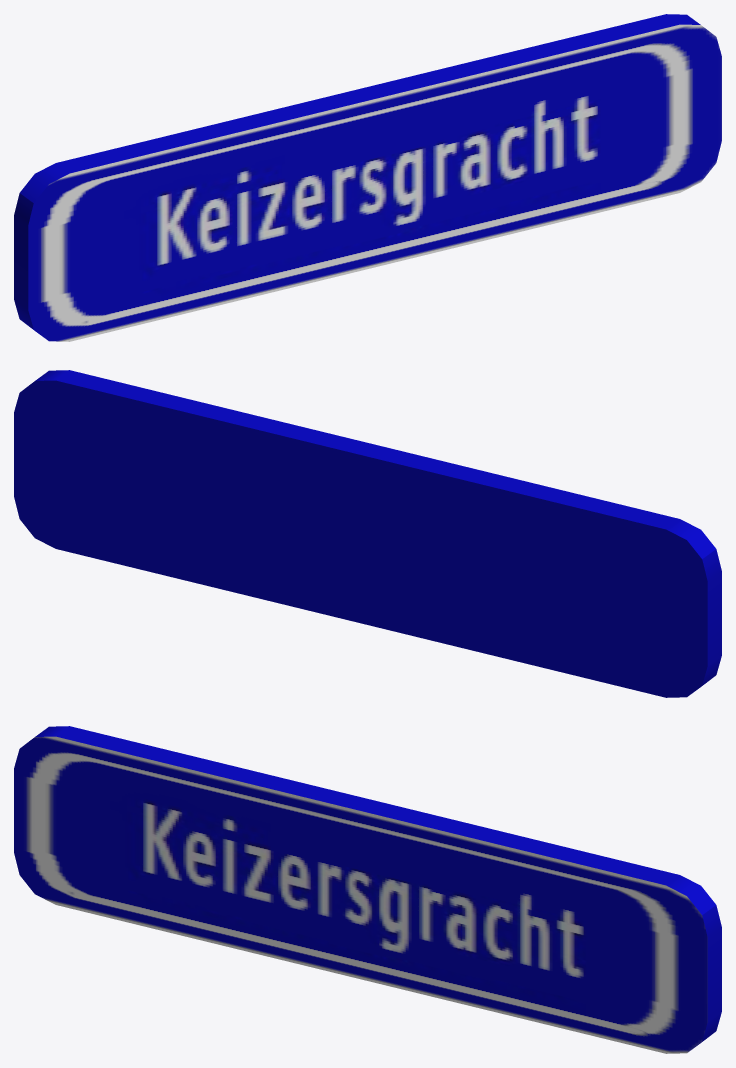
The model's file is Straadbord.fbx.
The picture shows the model from 3 angles, top to bottom: view 1: azimuth 30°, elevation 25°; view 2: azimuth 150°, elevation 25°; view 3: azimuth 330°, elevation 25°; orthographic projection.
Visible parts, largest first — view 1: pCube1; view 2: pCube1; view 3: pCube1.
Boxes of the visible parts, <box> form: pCube1: <box>14,14,721,341</box>; pCube1: <box>14,370,721,697</box>; pCube1: <box>14,726,721,1053</box>.
Bounding box in the file's own units: 4.31 × 1 × 0.1528.
